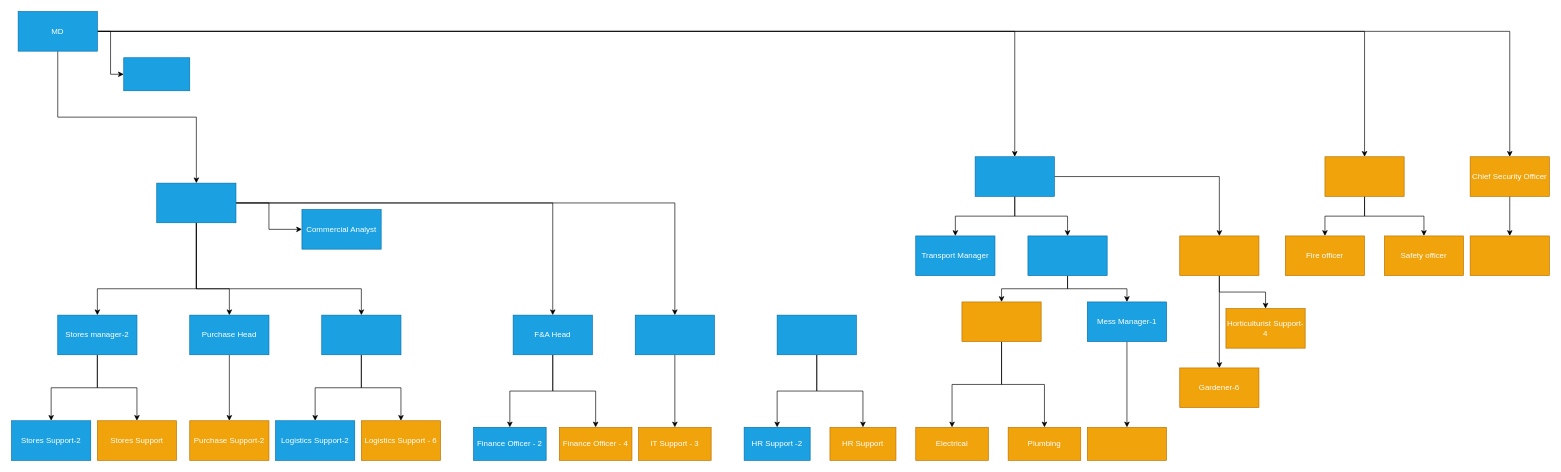
This 1561x472 diagram has some shape labels left out. The shapes that lost their labels are listed below. From the top down, each one's centre as x and y in pixels, then its label:
[156,74]: MD Ta
[1014,176]: Admin Head
[1364,176]: HSE
[196,202]: Commercial Head
[1067,255]: Estate Manager
[1219,255]: Horticulturist
[1509,255]: Asst. Security Officer-2
[361,334]: Logistics Manager
[674,334]: IT Team
[816,334]: HR Head
[1001,321]: Repair & Maintenance
[1127,443]: Mess Support -8
